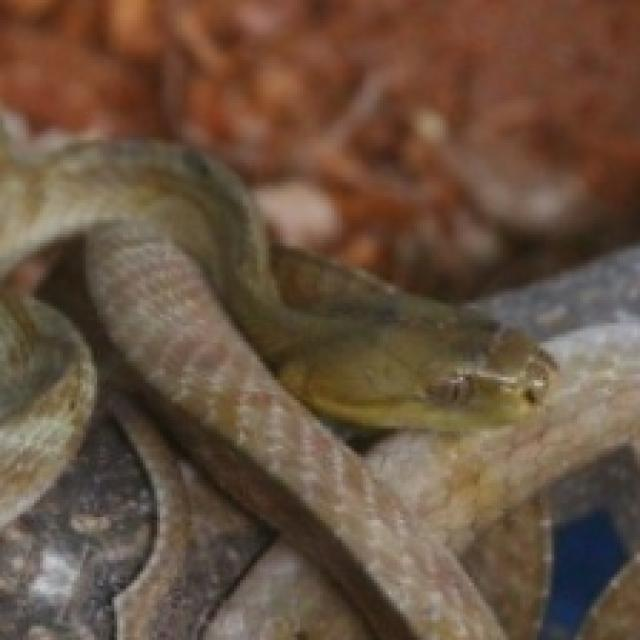philippine cat snake: (0, 131, 551, 637), (0, 0, 637, 300), (3, 500, 309, 637), (117, 400, 223, 500), (3, 560, 111, 637)
